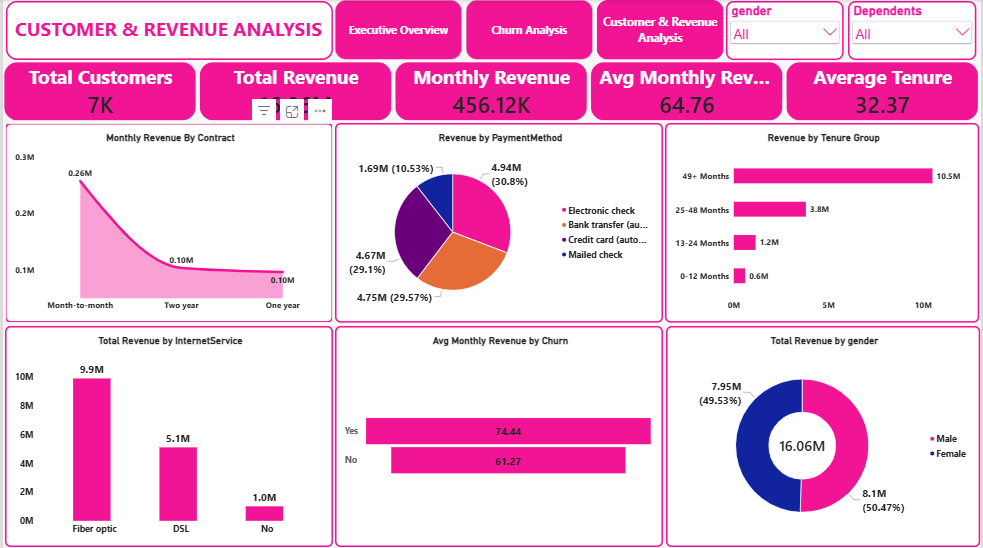

What the dashboard file says about the page in this screenshot:
{"tool":"powerbi","page":{"name":"Customer & Revenue Analysis","canvas":[1920,1080],"ordinal":2},"visuals":[{"type":"shape","box":[6.2,4.1,642.1,115.6],"z":0},{"type":"textbox","box":[22.7,33,609,72.3],"z":1},{"type":"pageNavigator","box":[652.4,2.1,765.9,117.7],"z":2},{"type":"cardVisual","fields":{"Data":["Telco-Customer-Churn (1).Total Customers","Telco-Customer-Churn (1).Total Revenue","Telco-Customer-Churn (1).Monthly Revenue","Telco-Customer-Churn (1).Avg Monthly Revenue","Telco-Customer-Churn (1).Average Tenure"]},"box":[2.1,123.9,1915.9,115.6],"z":3},{"type":"areaChart","title":"Monthly Revenue By Contract","fields":{"Y":["Telco-Customer-Churn (1).Monthly Revenue"],"Category":["Telco-Customer-Churn (1).Contract"]},"box":[4.1,243.6,644.1,392.3],"z":4},{"type":"clusteredColumnChart","fields":{"Y":["Telco-Customer-Churn (1).Total Revenue"],"Category":["Telco-Customer-Churn (1).InternetService"]},"box":[4.1,642.1,644.1,433.5],"z":5},{"type":"pieChart","title":"Revenue by PaymentMethod","fields":{"Y":["Telco-Customer-Churn (1).Total Revenue"],"Category":["Telco-Customer-Churn (1).PaymentMethod"]},"box":[652.4,243.6,644.1,392.3],"z":6},{"type":"funnel","fields":{"Category":["Telco-Customer-Churn (1).Churn"],"Y":["Telco-Customer-Churn (1).Avg Monthly Revenue"]},"box":[652,642,644,434],"z":7},{"type":"clusteredBarChart","title":" Revenue by Tenure Group","fields":{"Y":["Telco-Customer-Churn (1).Total Revenue"],"Category":["Telco-Customer-Churn (1).Tenure Group"]},"box":[1300.6,243.6,617.3,392.3],"z":8},{"type":"donutChart","fields":{"Y":["Telco-Customer-Churn (1).Total Revenue"],"Category":["Telco-Customer-Churn (1).gender"]},"box":[1301,642,617,434],"z":9},{"type":"slicer","fields":{"Values":["Telco-Customer-Churn (1).gender"]},"box":[1420.4,4.1,231.2,115.6],"z":10},{"type":"slicer","fields":{"Values":["Telco-Customer-Churn (1).Dependents"]},"box":[1659.9,4.1,251.9,115.6],"z":11}]}

Visuals, with their boxes in screenshot pixels (x1, y1, x2, y2), scaled from the page's 1920x1080 canvas onto the 983x548 screenshot:
shape: [3,2,332,61]
textbox: [12,17,323,53]
pageNavigator: [334,1,726,61]
cardVisual - Telco-Customer-Churn (1).Total Customers x Telco-Customer-Churn (1).Total Revenue: [1,63,982,122]
"Monthly Revenue By Contract" areaChart: [2,124,332,323]
clusteredColumnChart - Telco-Customer-Churn (1).Total Revenue x Telco-Customer-Churn (1).InternetService: [2,326,332,546]
"Revenue by PaymentMethod" pieChart: [334,124,664,323]
funnel - Telco-Customer-Churn (1).Churn x Telco-Customer-Churn (1).Avg Monthly Revenue: [334,326,664,546]
" Revenue by Tenure Group" clusteredBarChart: [666,124,982,323]
donutChart - Telco-Customer-Churn (1).Total Revenue x Telco-Customer-Churn (1).gender: [666,326,982,546]
slicer - Telco-Customer-Churn (1).gender: [727,2,846,61]
slicer - Telco-Customer-Churn (1).Dependents: [850,2,979,61]
